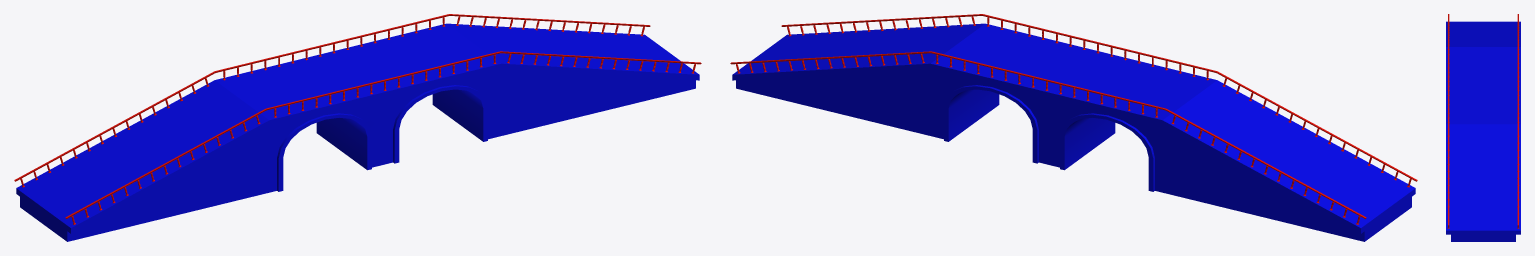
Rendered from Bridge1_Mesh.fbx.
3 renders of one model, left to right at view 1: azimuth 30°, elevation 25°; view 2: azimuth 150°, elevation 25°; view 3: azimuth 270°, elevation 25°, orthographic. The views are drawn at different scales.
Parts seen in each view (by area): view 1: Cube.116; view 2: Cube.116; view 3: Cube.116.
Boxes of the visible parts, box(x1,y1,x2,y2) form: Cube.116: box(14, 14, 701, 241); Cube.116: box(730, 14, 1417, 241); Cube.116: box(1446, 14, 1520, 241).
Bounding box in the file's own units: 692 × 4633 × 601.
